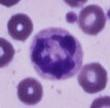N: (29, 26, 83, 80)
